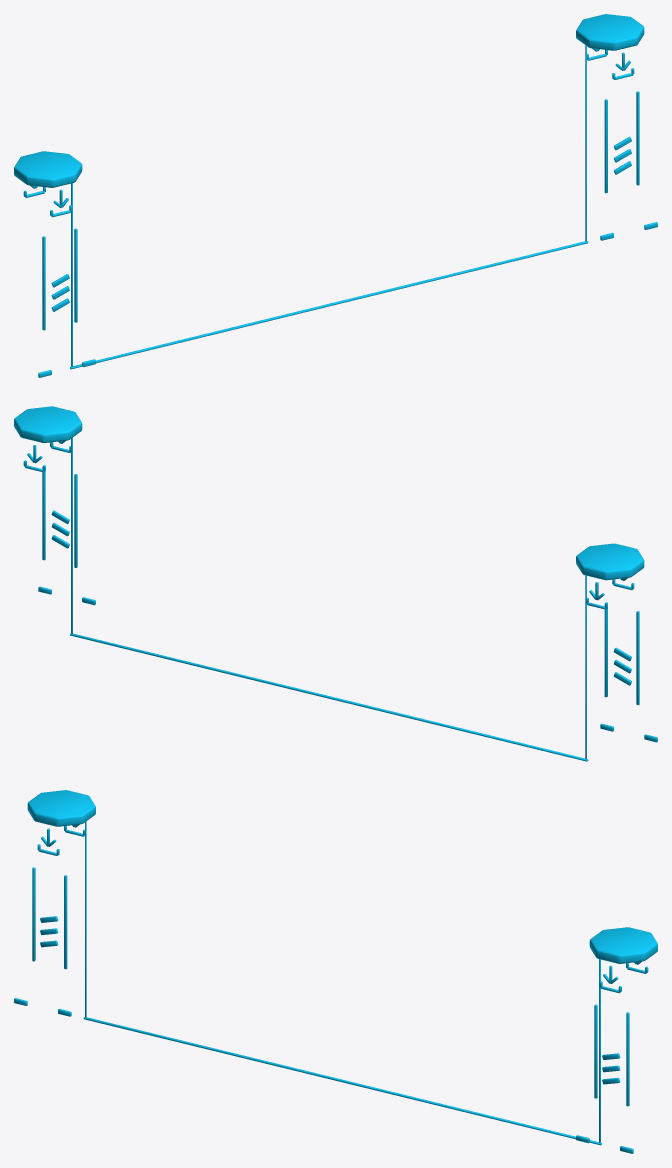
Rendered from SavePointGlow.obj.
3 renders of one model, top to bottom at view 1: azimuth 30°, elevation 25°; view 2: azimuth 150°, elevation 25°; view 3: azimuth 330°, elevation 25°, orthographic.
Visible parts, largest first — view 1: SavePointGlow; view 2: SavePointGlow; view 3: SavePointGlow.
Boxes of the visible parts, left/top/right/bottom form: SavePointGlow: left=14, top=14, right=657, bottom=377; SavePointGlow: left=14, top=406, right=657, bottom=761; SavePointGlow: left=14, top=790, right=657, bottom=1153.
Size of the model in its own units: 9.03 by 2.92 by 0.904.
Materials: 1 (1 with a texture image).
